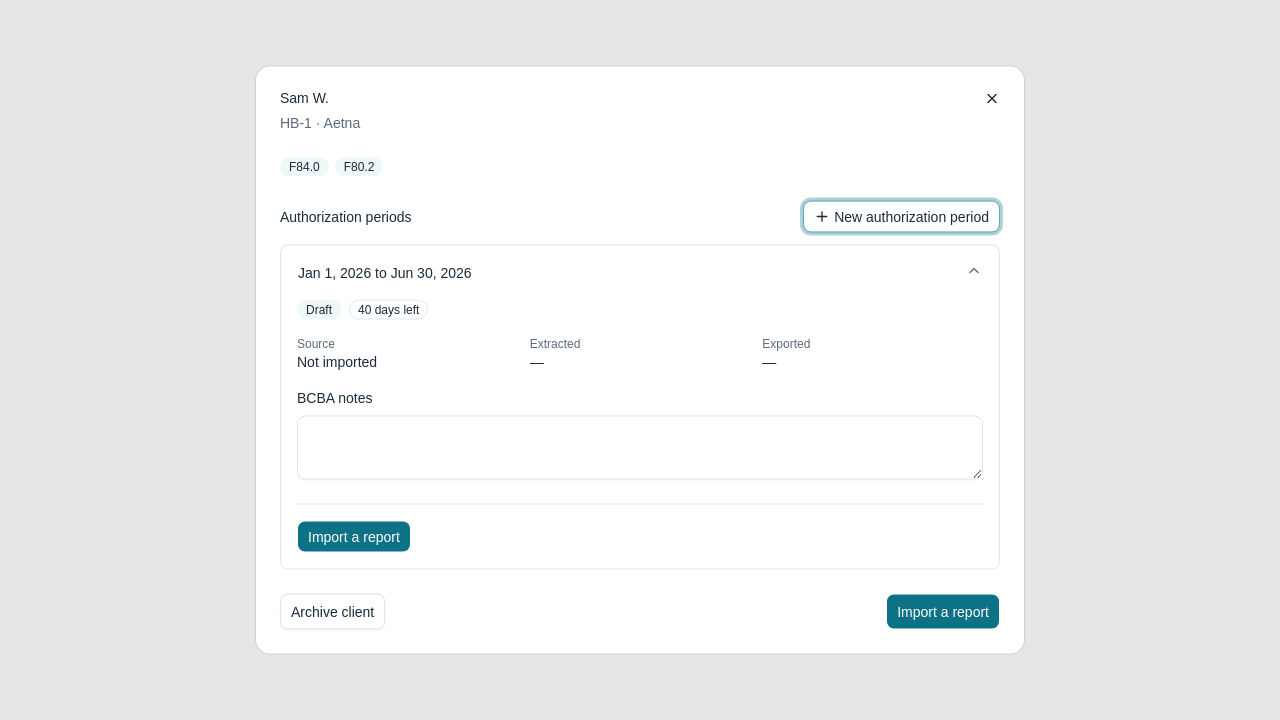
ClientDetailDialog › will not create a period that ends before it starts, or refused by the server
Click the button "New authorization period" at (902, 216), box [803,200,1000,232]
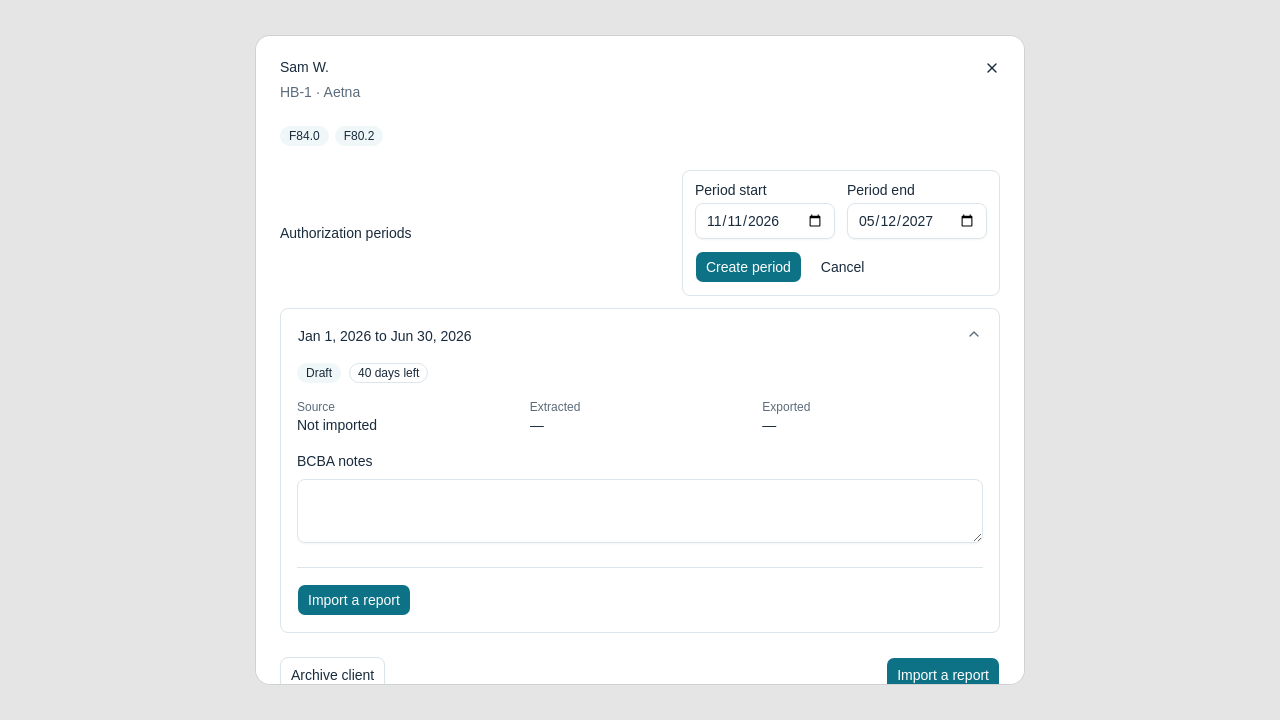
Type "2000-01-01" into the date field labelled "Period end" at (917, 221), box [847,203,987,239]
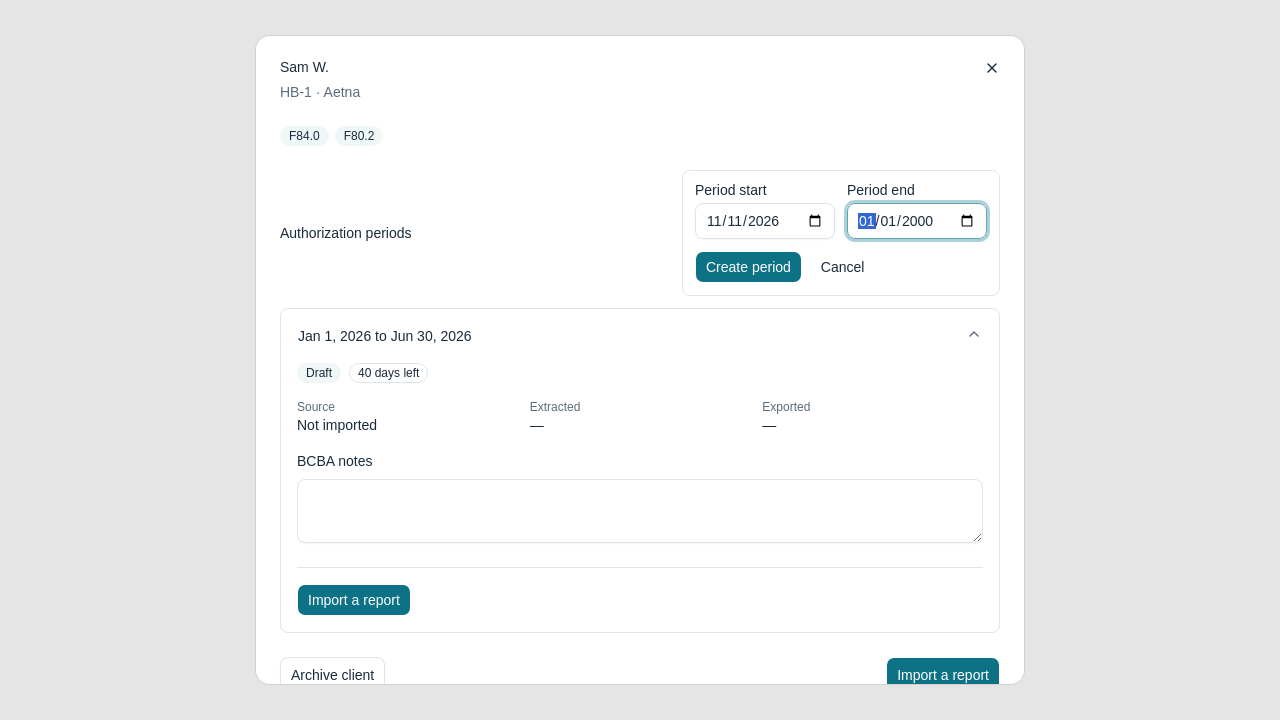
Click the button "Create period" at (748, 267), box [695,251,802,283]
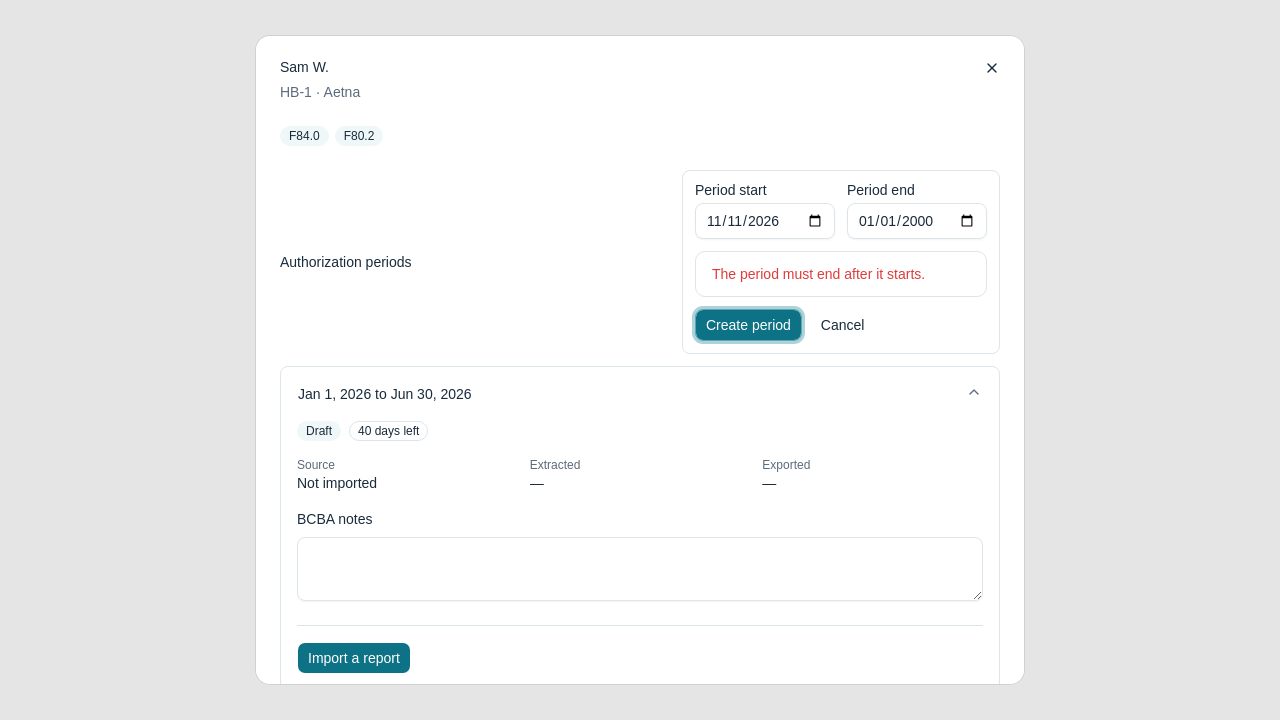
Check: the text "The period must end after it starts." is shown, box [712,266,925,282]
Type "2099-01-01" into the date field labelled "Period end" at (917, 221), box [847,203,987,239]
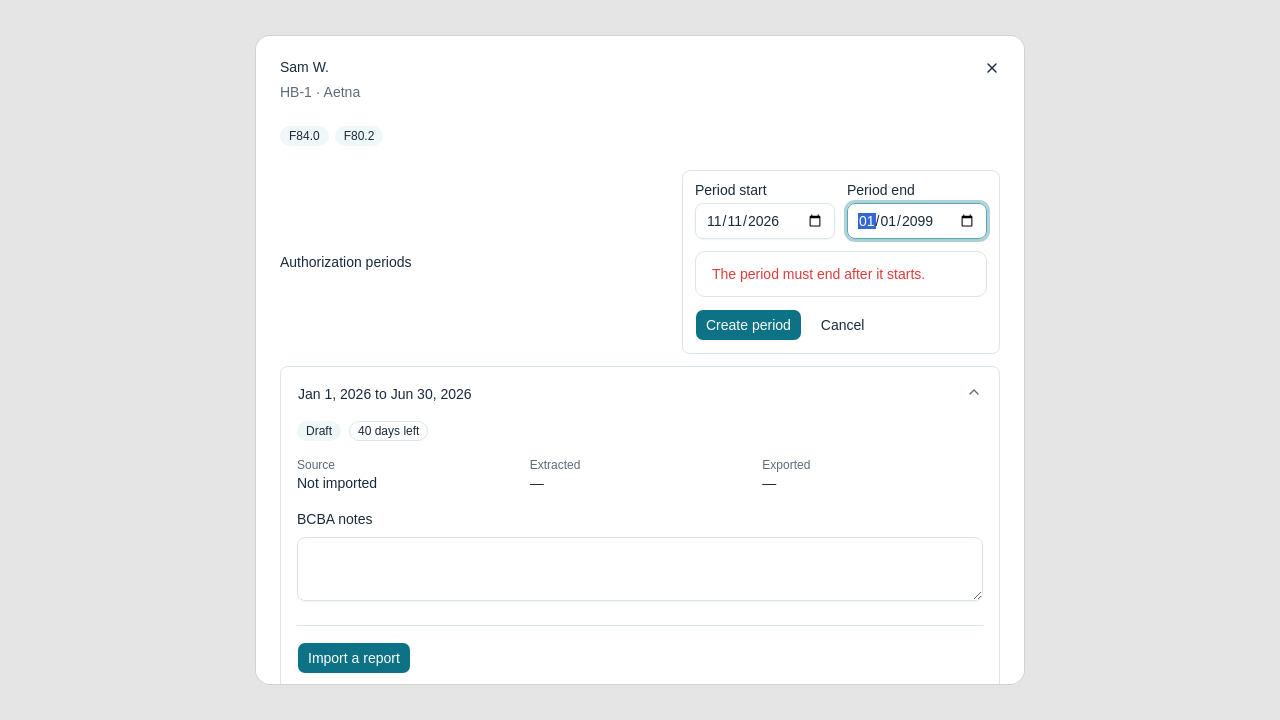
Click the button "Create period" at (748, 325), box [695,309,802,341]
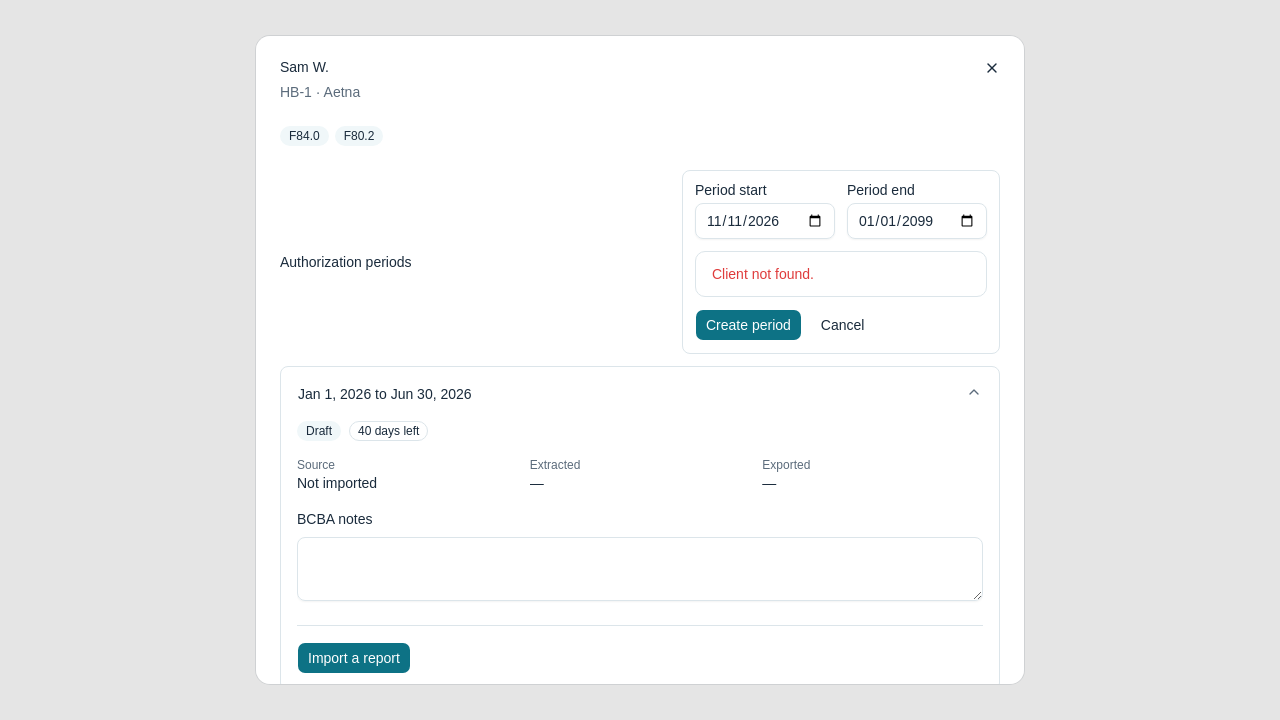
Check: the text "Client not found." is shown, box [712,266,814,282]
